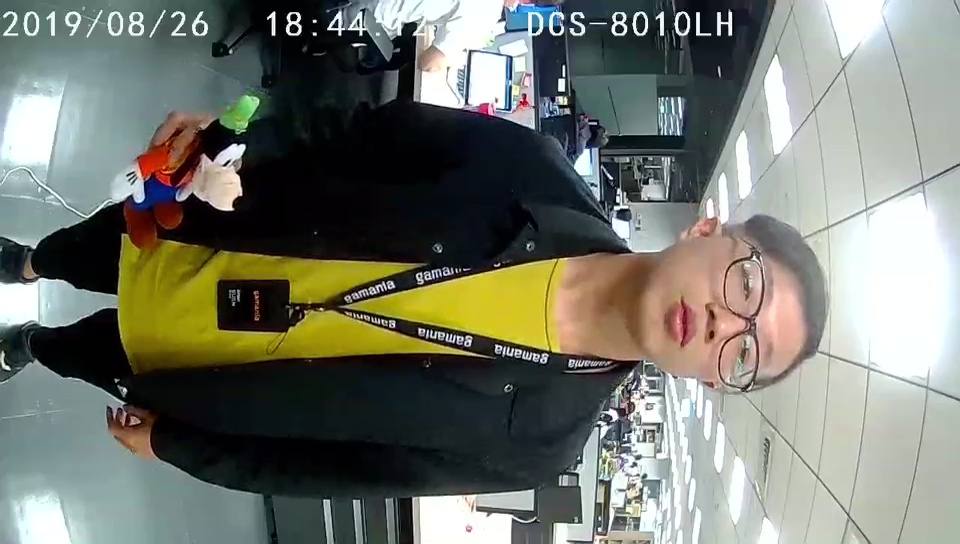goofy: (111, 94, 263, 251)
